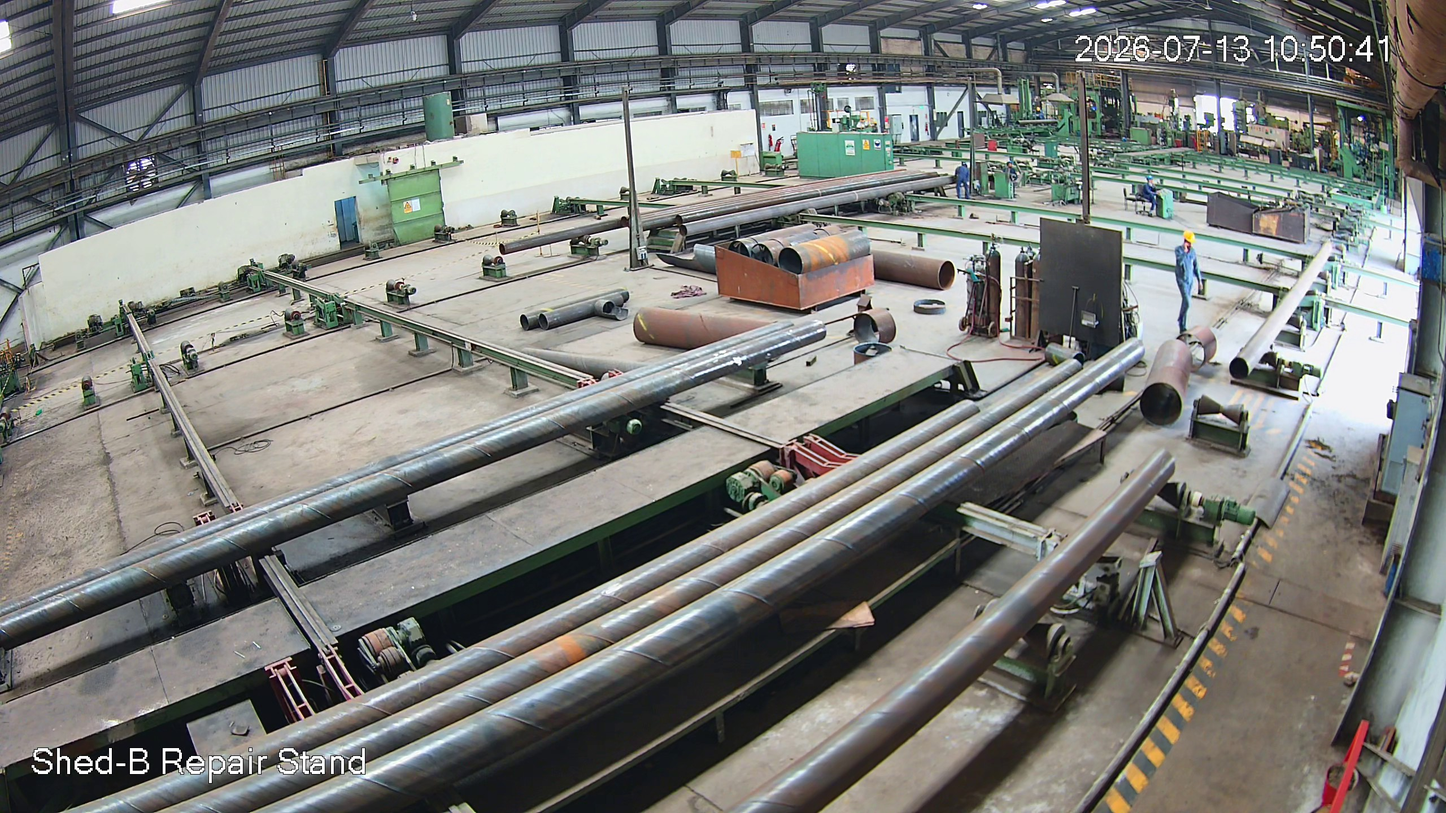Helmet: (1179, 230, 1197, 251)
Person: (1170, 231, 1204, 351)
